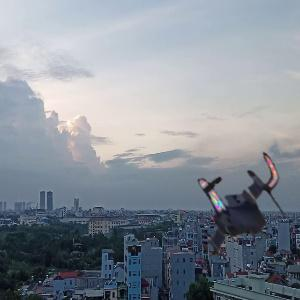drone: (180, 147, 296, 263)
